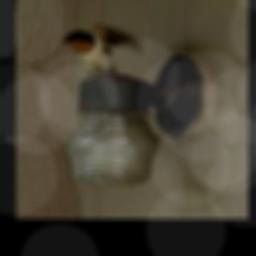Swallow: (61, 21, 143, 77)
